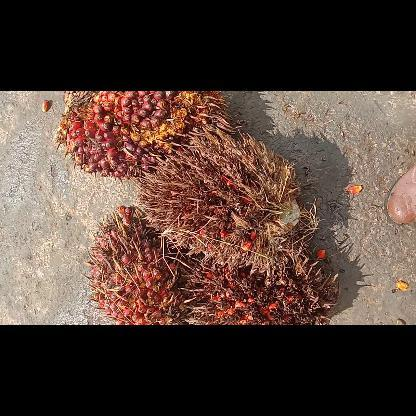TBS masak: (54, 91, 232, 183), (80, 206, 194, 324)
Terlalu masak: (132, 126, 316, 278), (176, 254, 338, 324)
